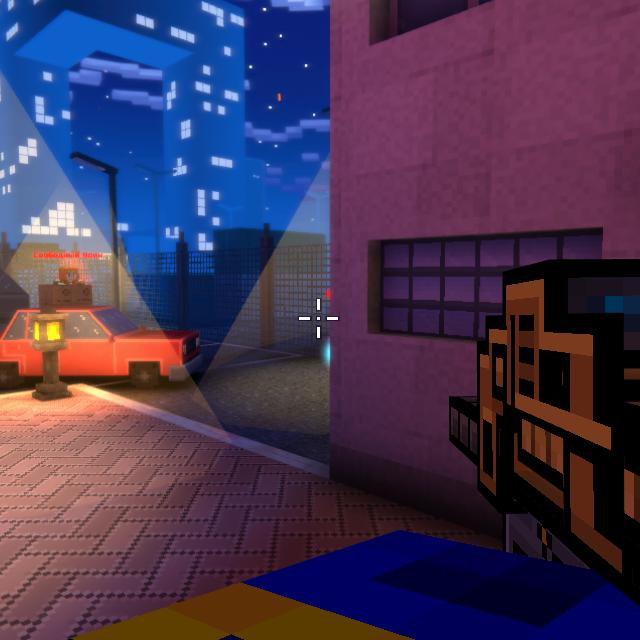Enemy: (60, 266, 87, 285)
